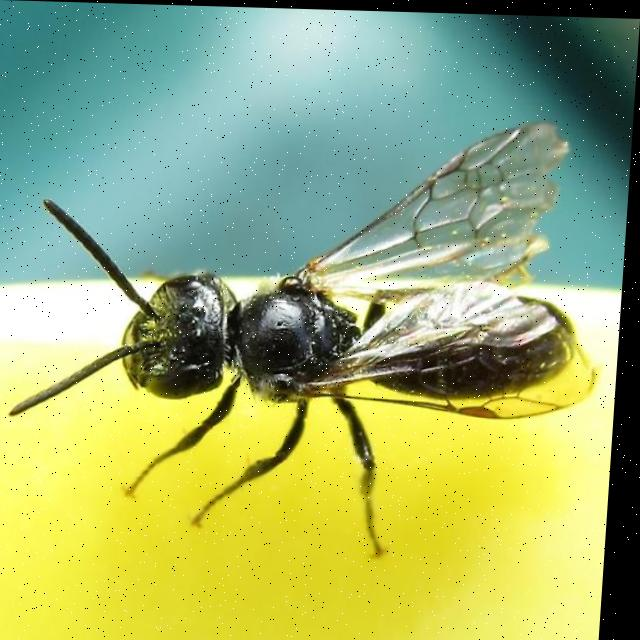Lasioglossum: (0, 97, 618, 570)
